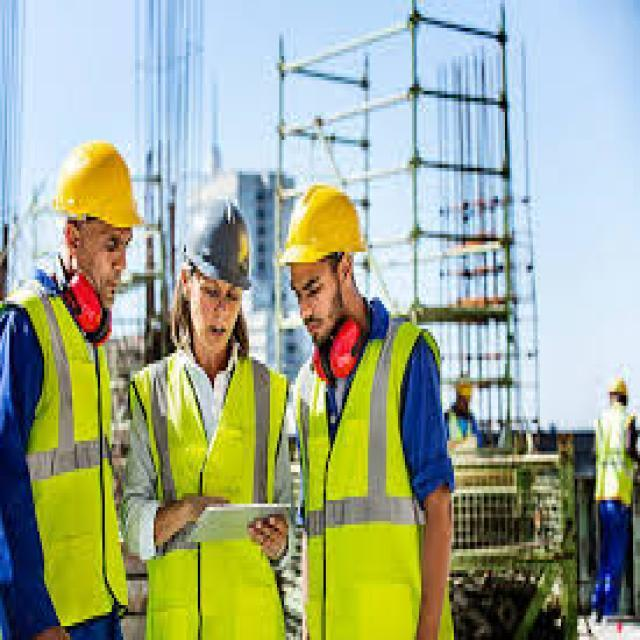blue helmet: (184, 198, 256, 289)
yellow helmet: (49, 137, 149, 230), (277, 181, 370, 270), (606, 372, 634, 398), (452, 376, 476, 399)
